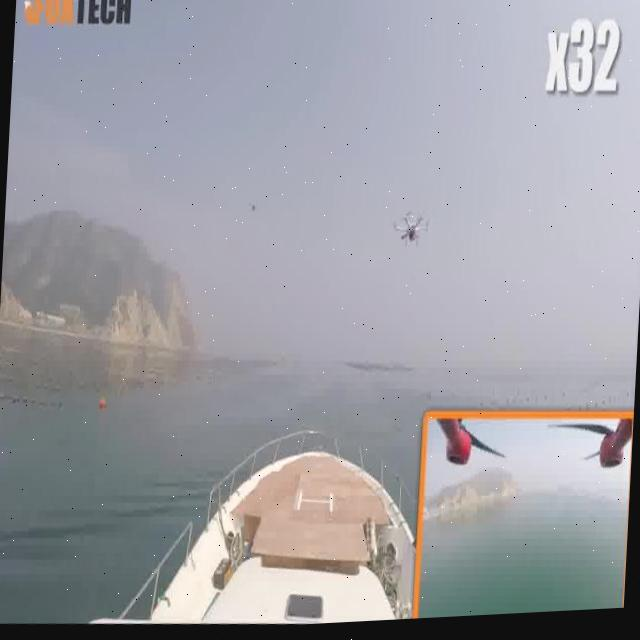drone: (379, 197, 436, 279)
